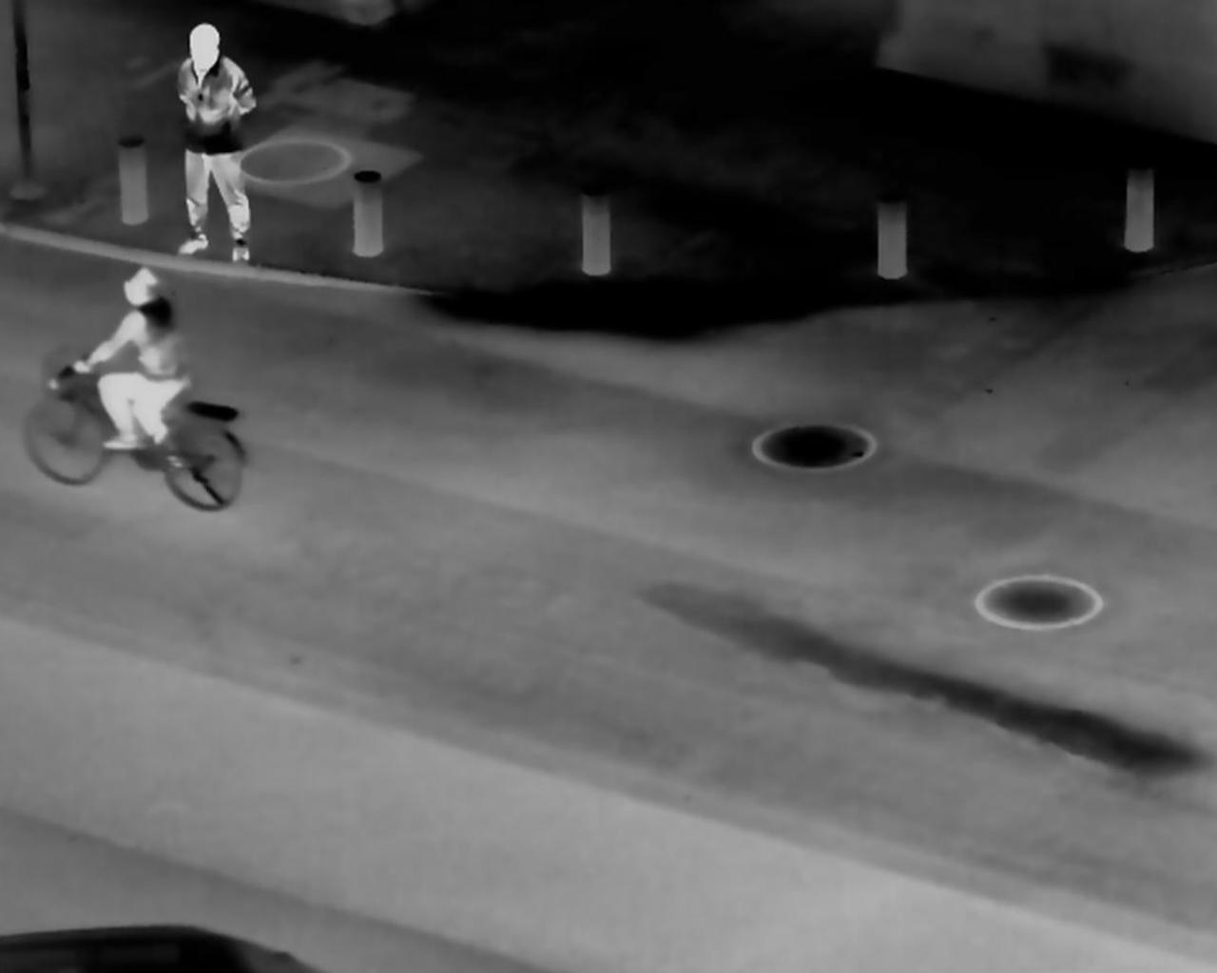person: (69, 270, 187, 470), (164, 19, 258, 267)
